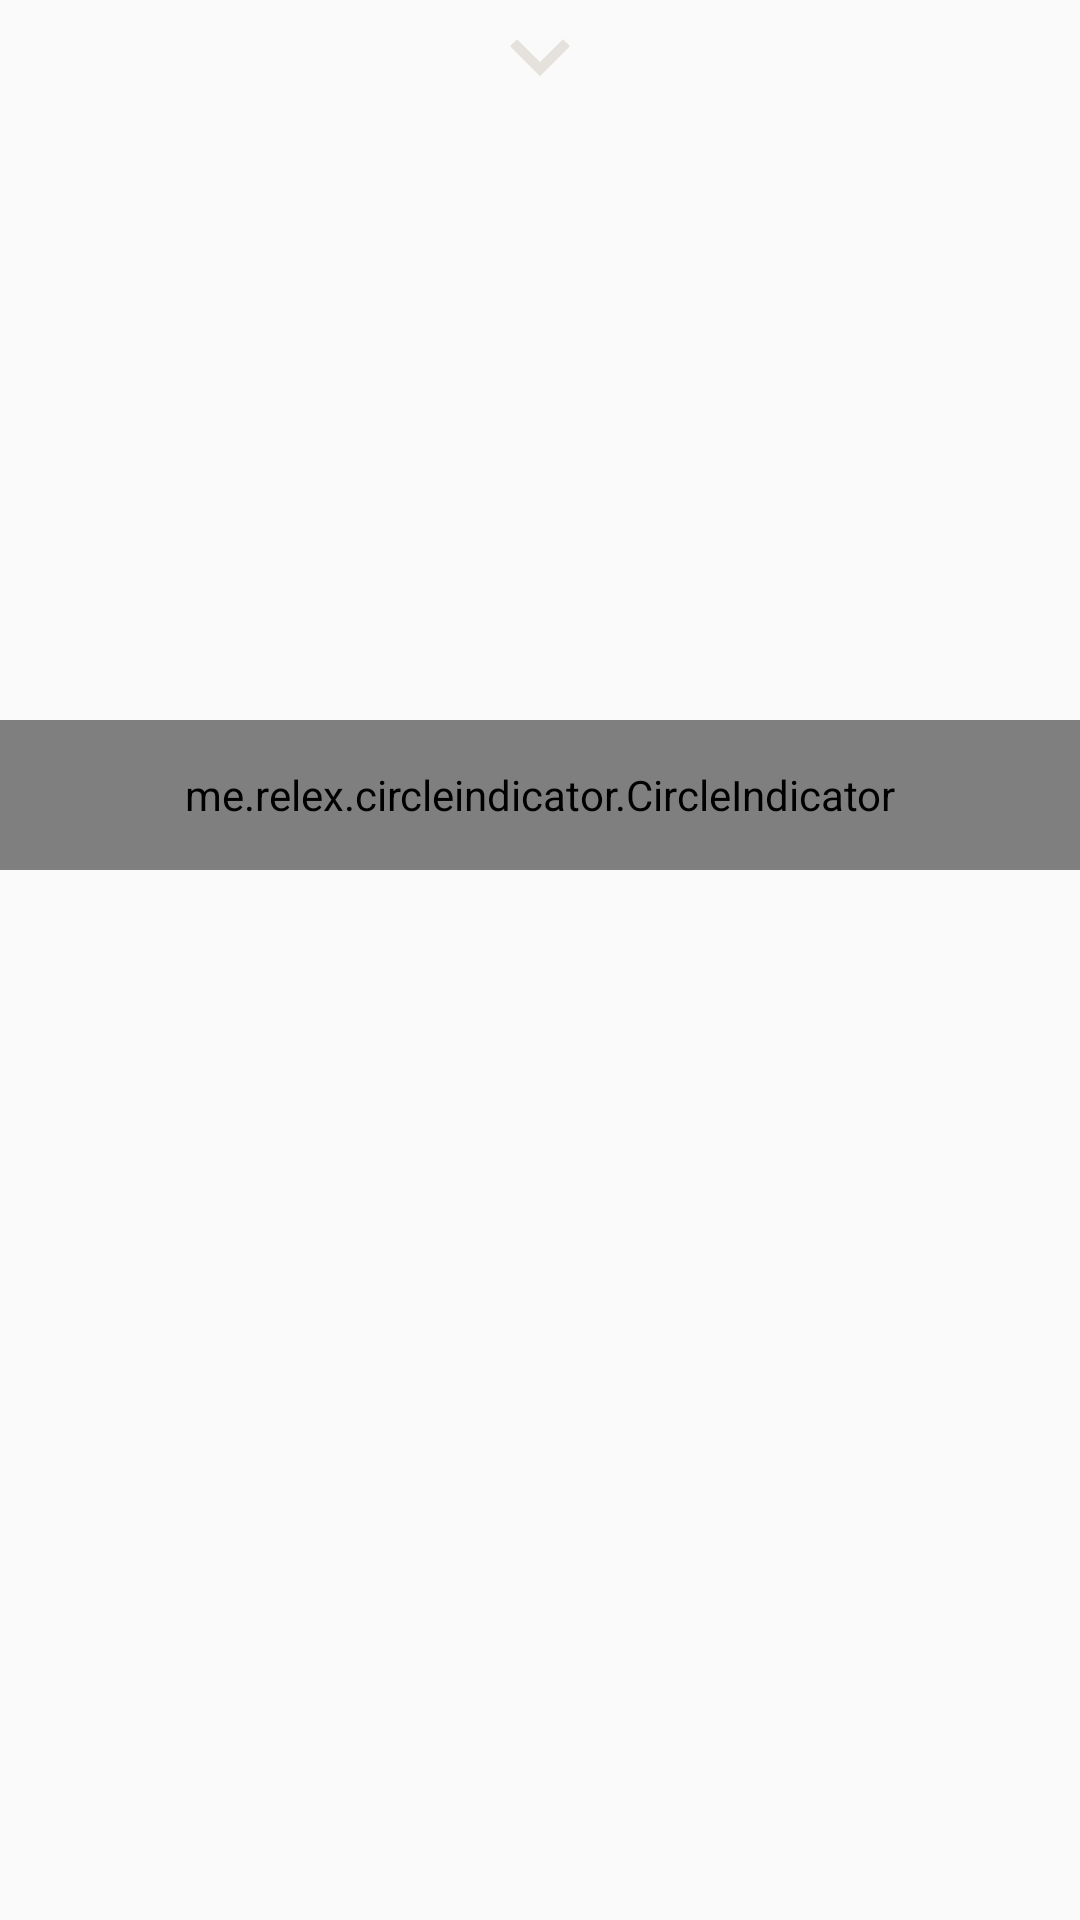

Named icons in this screenshot (1080 × 1920) and their bounding boxes, [x1, y1, x2, y2]:
down: [511, 40, 569, 75]
